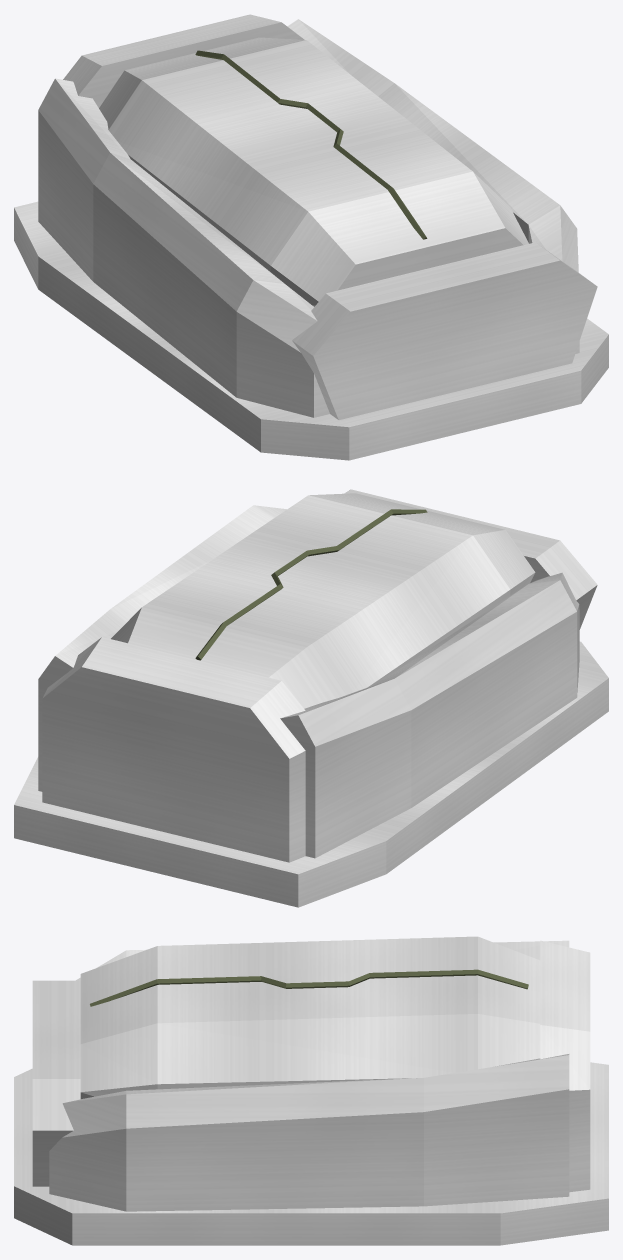
Rendered from mech_capsule_closed.obj.
The picture shows the model from 3 angles, top to bottom: view 1: azimuth 30°, elevation 25°; view 2: azimuth 150°, elevation 25°; view 3: azimuth 270°, elevation 25°; orthographic projection. The views are drawn at different scales.
Visible parts, largest first — view 1: mech_capsule_closed; view 2: mech_capsule_closed; view 3: mech_capsule_closed.
Part boxes in pixels (bbox=[...]): mech_capsule_closed: bbox=[14, 14, 608, 460]; mech_capsule_closed: bbox=[14, 489, 608, 907]; mech_capsule_closed: bbox=[14, 936, 608, 1245].
Size of the model in its own units: 1.86 by 1.03 by 2.86.
